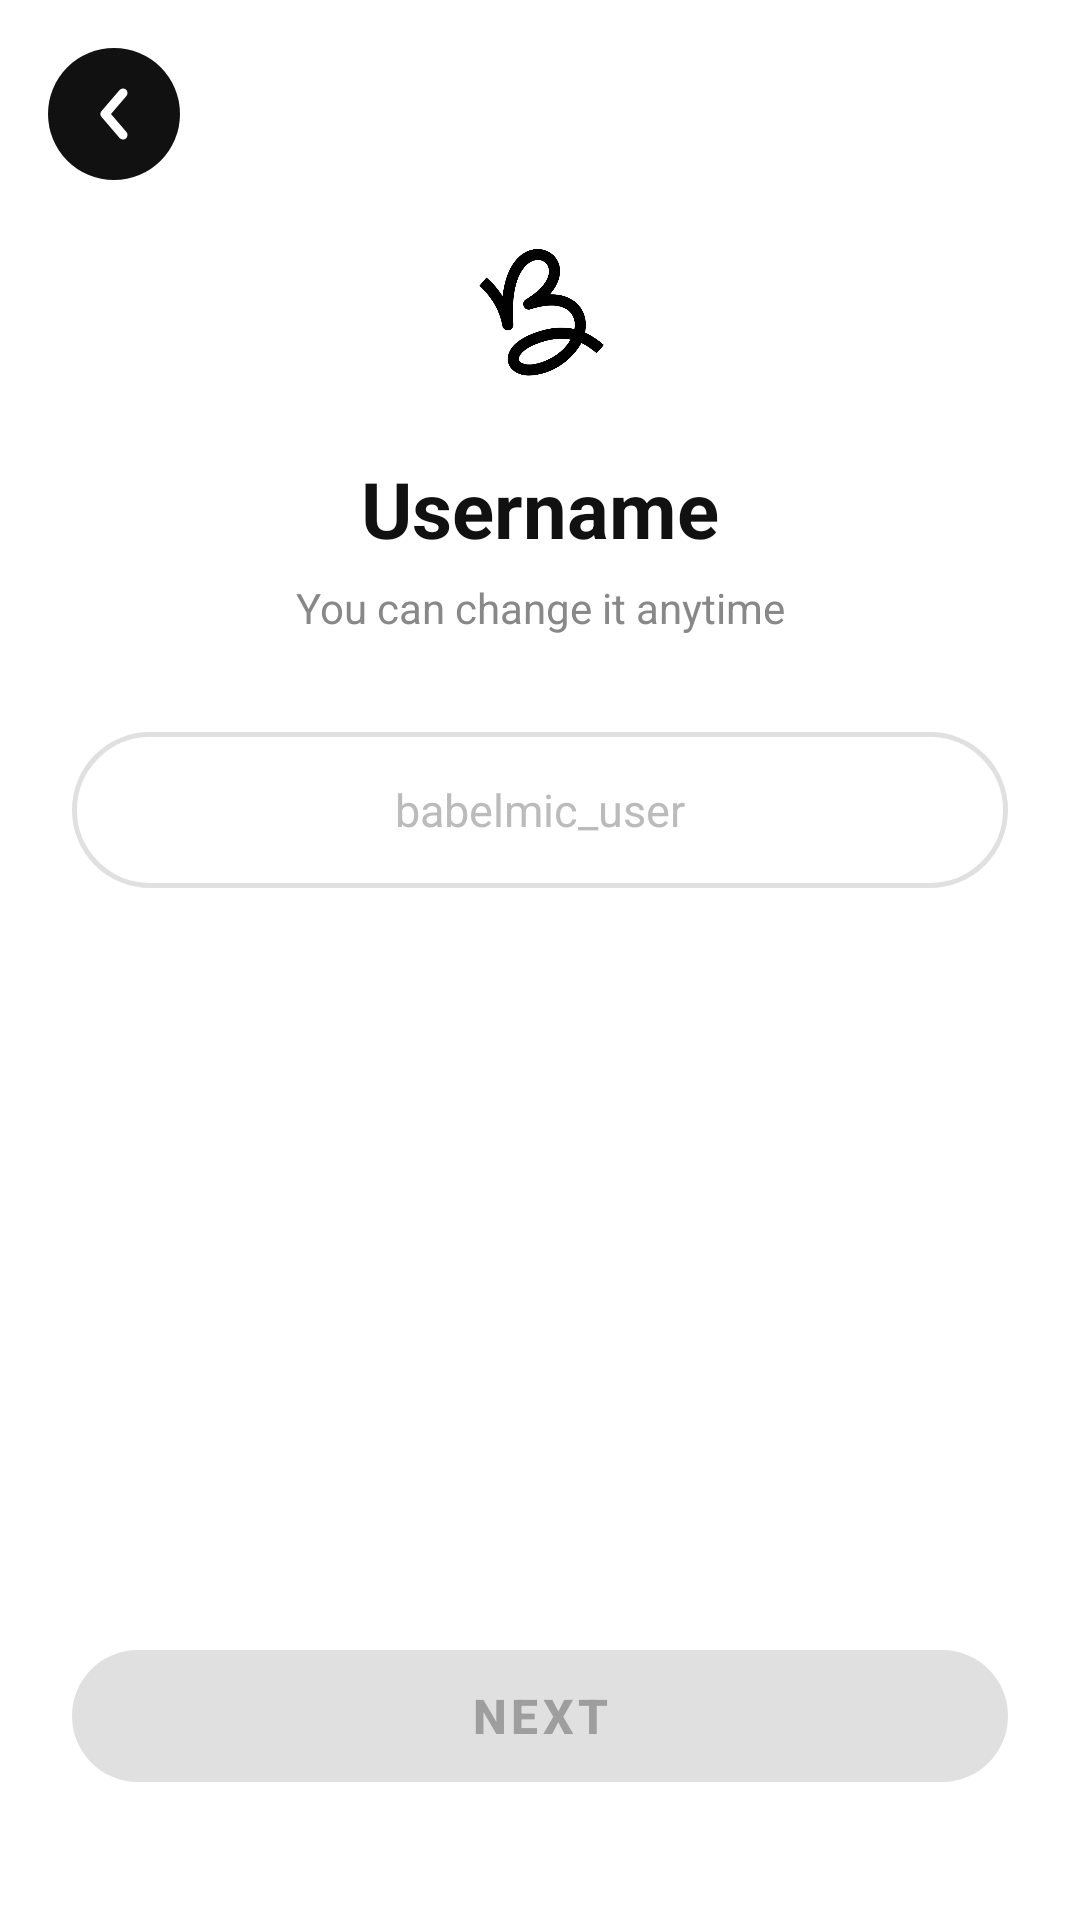

Icons on this 1080×1920 Android screen, each with the point to tap as point (x, y):
Back: point (114, 114)
